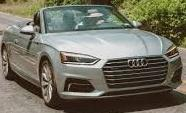Cars: (3, 7, 183, 109)
